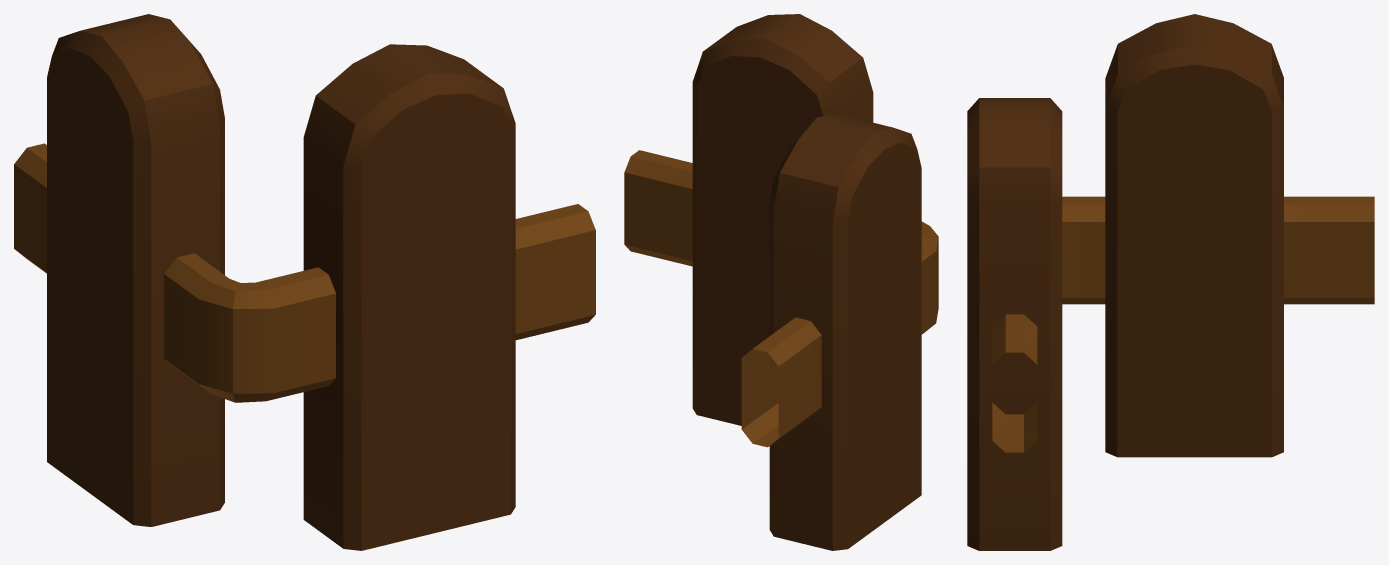
File: Fence_Corner.obj
3 renders of one model, left to right at view 1: azimuth 30°, elevation 25°; view 2: azimuth 150°, elevation 25°; view 3: azimuth 270°, elevation 25°, orthographic. The views are drawn at different scales.
Visible parts, largest first — view 1: Fence_Corner_Cube.023; view 2: Fence_Corner_Cube.023; view 3: Fence_Corner_Cube.023.
Part boxes in pixels (bbox=[...]): Fence_Corner_Cube.023: bbox=[14, 14, 595, 550]; Fence_Corner_Cube.023: bbox=[624, 14, 938, 550]; Fence_Corner_Cube.023: bbox=[967, 14, 1374, 550].
Bounding box in the file's own units: 1.13 × 1.25 × 1.13.
